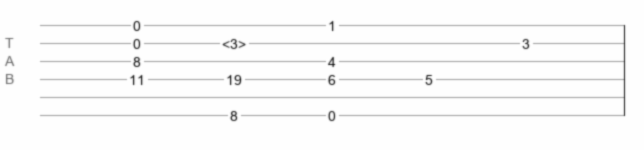0: (133, 36, 141, 46), (133, 18, 141, 28), (328, 108, 336, 118)
1: (328, 18, 336, 28)
11: (129, 72, 145, 82)
19: (226, 72, 242, 82)
3: (522, 36, 530, 46)
4: (328, 54, 336, 64)
5: (425, 72, 433, 82)
6: (328, 72, 336, 82)
8: (133, 54, 141, 64), (230, 108, 238, 118)
harmonic: (222, 36, 246, 46)
